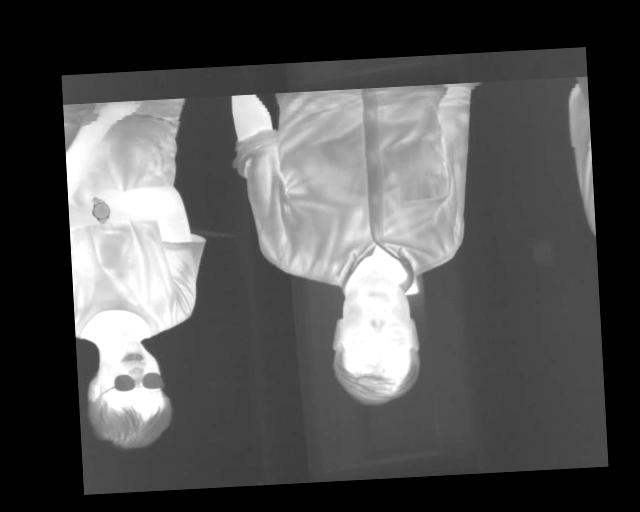face: (326, 269, 423, 409), (83, 336, 171, 452)
